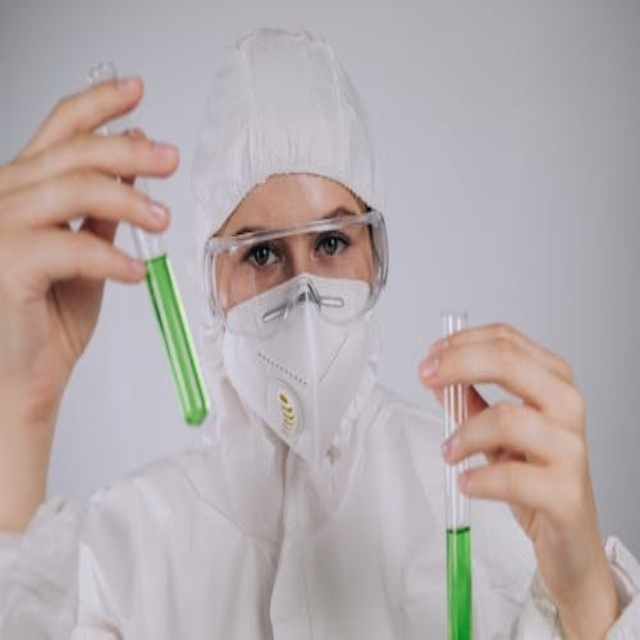Gafas: (204, 211, 389, 332)
Mascara: (213, 228, 385, 470)
Sin_guantes: (0, 66, 177, 497), (418, 321, 614, 628)
